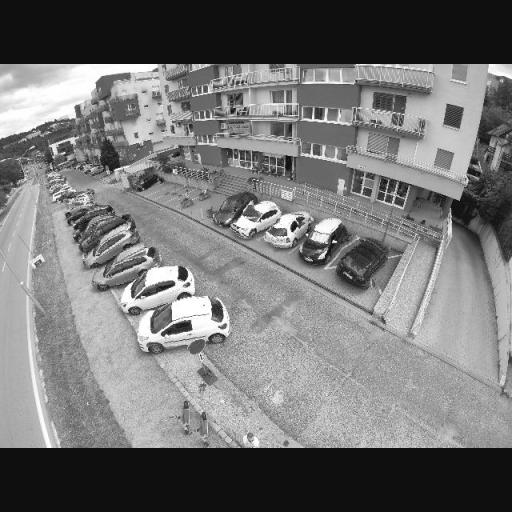busy: (138, 296, 233, 352), (118, 267, 197, 311), (336, 236, 389, 288), (82, 230, 145, 266), (97, 248, 159, 284), (300, 219, 348, 264), (231, 200, 281, 242), (266, 210, 316, 250), (79, 216, 137, 244), (211, 194, 256, 226), (71, 206, 118, 228), (64, 192, 96, 212), (131, 173, 160, 192)
free: (166, 189, 180, 198), (174, 197, 189, 205), (159, 185, 169, 196)
